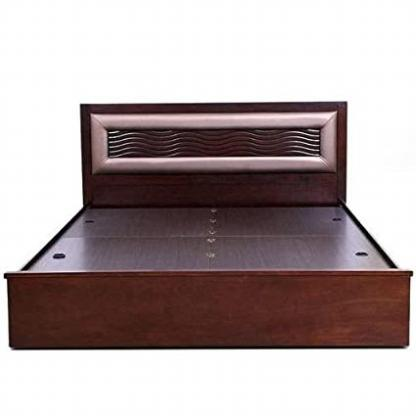bed: (7, 102, 416, 368)
